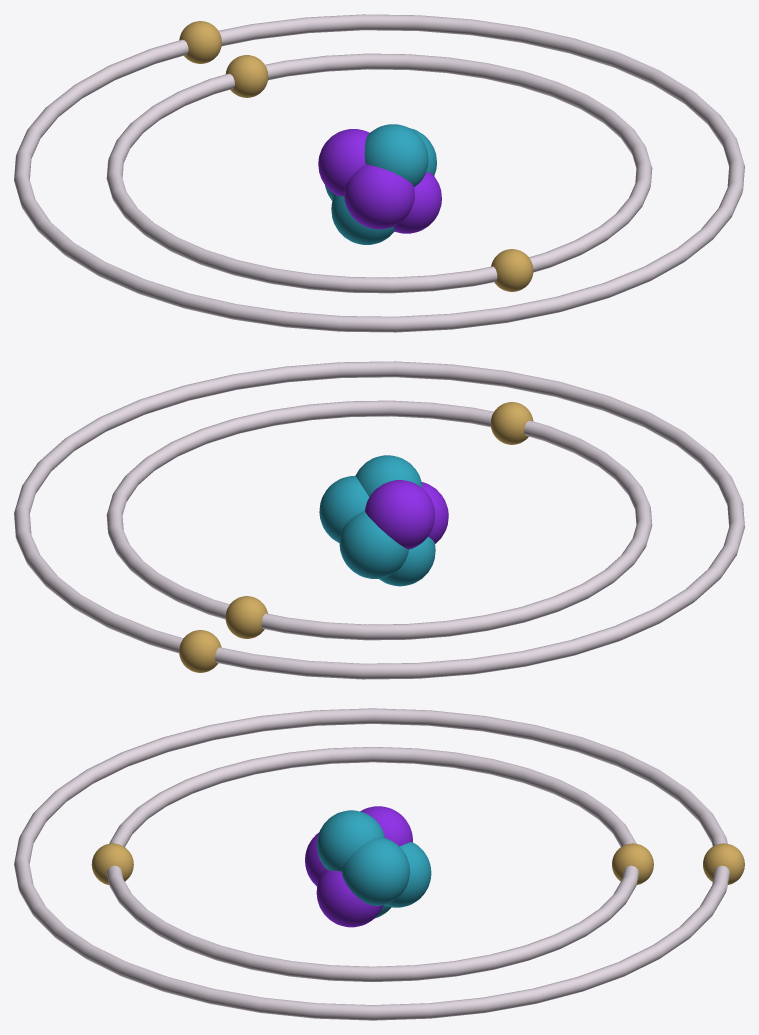
The model's file is litio.glb.
3 renders of one model, top to bottom at view 1: azimuth 30°, elevation 25°; view 2: azimuth 150°, elevation 25°; view 3: azimuth 270°, elevation 25°, orthographic.
Parts seen in each view (by area): view 1: Orbita_2, Orbita_1, Nucleo_Completo, Eletron_1, Eletron_C2_1, Eletron_2; view 2: Orbita_2, Orbita_1, Nucleo_Completo, Eletron_C2_1, Eletron_2, Eletron_1; view 3: Orbita_2, Orbita_1, Nucleo_Completo, Eletron_1, Eletron_2, Eletron_C2_1.
Part boxes in pixels (box(x1,y1,x2,y2)): Orbita_2: box(14, 14, 744, 332); Orbita_1: box(106, 53, 652, 293); Nucleo_Completo: box(318, 124, 441, 244); Eletron_1: box(491, 249, 533, 291); Eletron_C2_1: box(179, 21, 221, 63); Eletron_2: box(225, 55, 268, 97); Orbita_2: box(14, 361, 744, 679); Orbita_1: box(106, 400, 652, 640); Nucleo_Completo: box(319, 455, 448, 586); Eletron_C2_1: box(179, 630, 221, 672); Eletron_2: box(225, 596, 267, 638); Eletron_1: box(490, 402, 533, 444); Orbita_2: box(14, 708, 729, 1020); Orbita_1: box(106, 747, 638, 981); Nucleo_Completo: box(305, 806, 431, 927); Eletron_1: box(91, 843, 133, 884); Eletron_2: box(612, 843, 653, 884); Eletron_C2_1: box(703, 843, 744, 884).
Bounding box in the file's own units: 2.76 × 0.4771 × 2.81.
